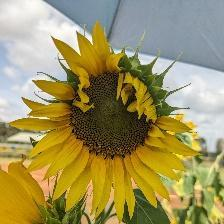sunflower: (31, 39, 182, 205), (1, 155, 50, 224)
